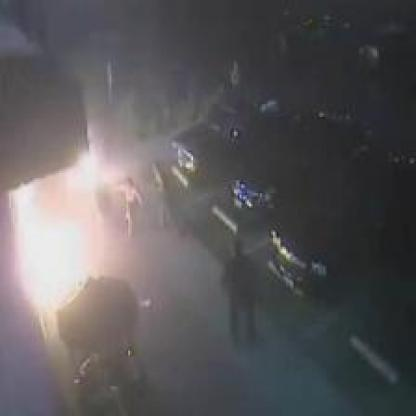fire: (11, 143, 110, 312)
